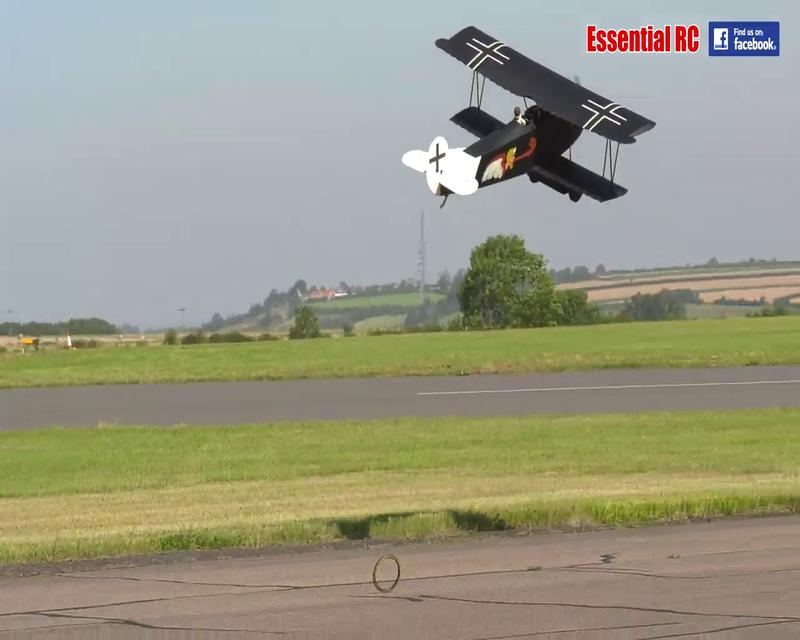UAV: (401, 24, 657, 210)
